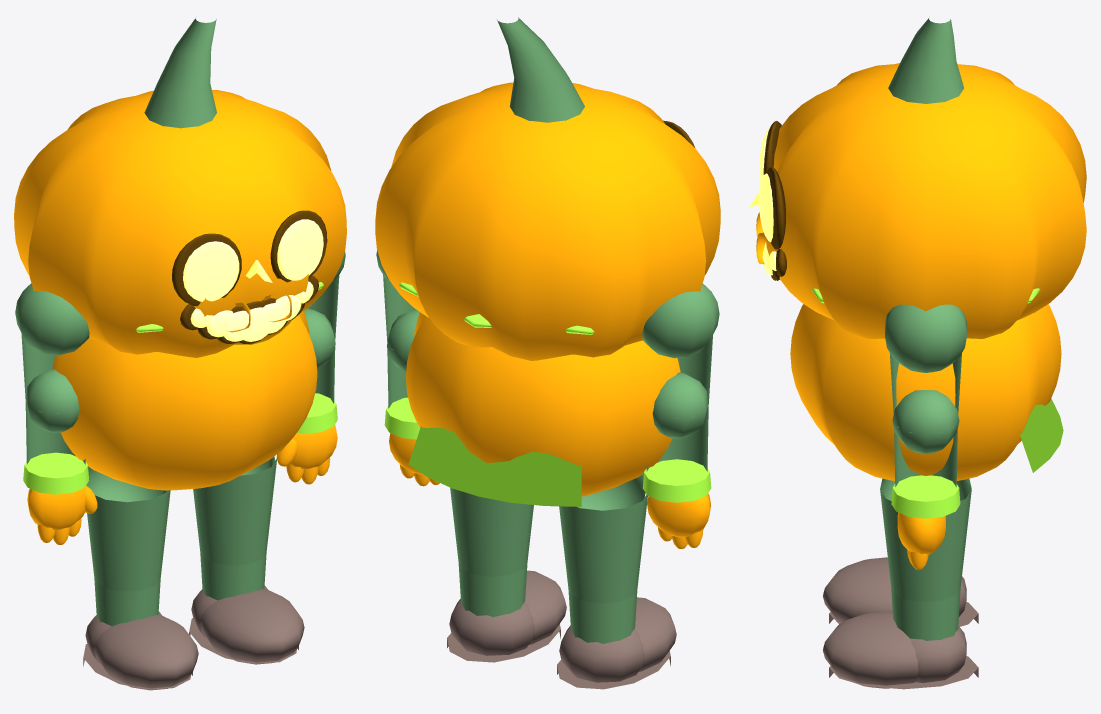
Rendered from pumpkin-fiend.glb.
The picture shows the model from 3 angles, left to right: view 1: azimuth 30°, elevation 25°; view 2: azimuth 150°, elevation 25°; view 3: azimuth 270°, elevation 25°; orthographic projection. The views are drawn at different scales.
Parts seen in each view (by area): view 1: Head, Body, Leg_L, Leg_R, Arm_L, Arm_R; view 2: Head, Body, Leg_L, Leg_R, Arm_L, Extra, Arm_R; view 3: Head, Body, Leg_R, Arm_R, Leg_L, Extra.
Boxes of the visible parts, box(x1,y1,x2,y2) form: Head: box(14, 18, 346, 357); Body: box(52, 282, 323, 490); Leg_L: box(83, 466, 198, 690); Leg_R: box(189, 456, 304, 664); Arm_L: box(15, 283, 97, 544); Arm_R: box(276, 252, 345, 484); Head: box(375, 17, 720, 360); Body: box(399, 282, 680, 496); Leg_L: box(557, 473, 676, 689); Leg_R: box(447, 487, 566, 662); Arm_L: box(642, 283, 719, 548); Extra: box(408, 426, 581, 506); Arm_R: box(376, 250, 439, 486); Head: box(749, 18, 1086, 338); Body: box(790, 288, 1061, 480); Leg_R: box(823, 478, 978, 689); Arm_R: box(885, 304, 966, 569); Leg_L: box(823, 557, 978, 626); Extra: box(1020, 398, 1063, 472).
Bounding box in the file's own units: 2.78 × 5.18 × 2.43.
